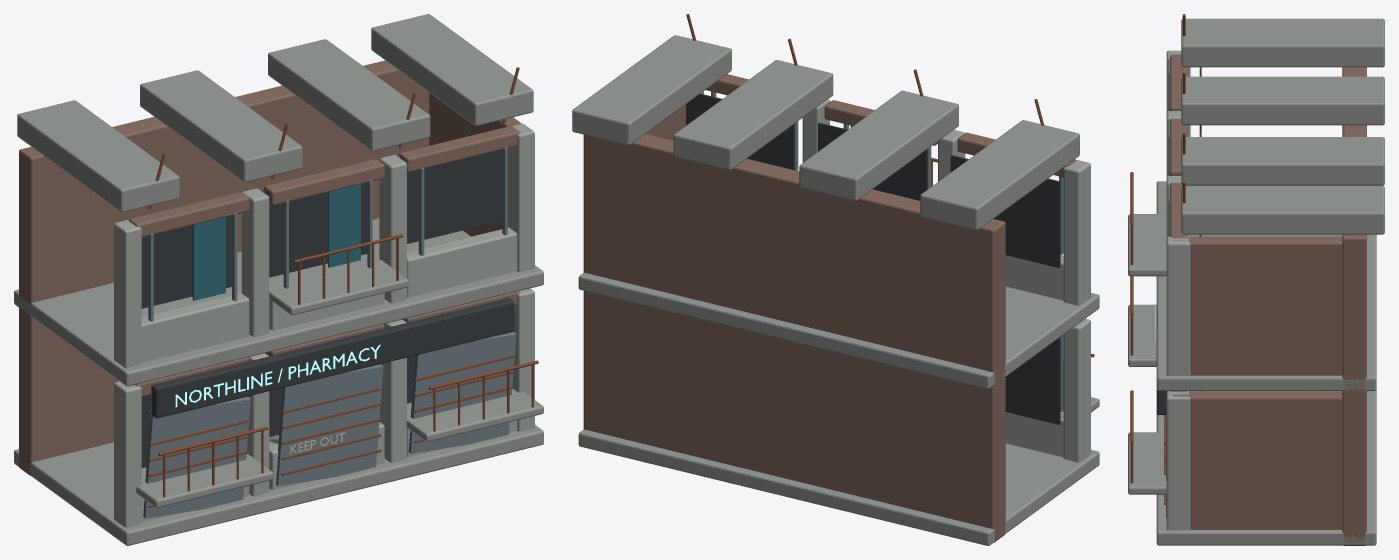
File: broken-shop.glb
3 views of the same model, side by side, from view 1: azimuth 30°, elevation 25°; view 2: azimuth 150°, elevation 25°; view 3: azimuth 270°, elevation 25° (orthographic). The views are drawn at different scales.
Parts seen in each view (by area): view 1: broken-shop.001; view 2: broken-shop.001; view 3: broken-shop.001.
Boxes of the visible parts, <box> form: broken-shop.001: <box>14,14,543,545</box>; broken-shop.001: <box>572,14,1099,545</box>; broken-shop.001: <box>1128,14,1384,545</box>.
Size of the model in its own units: 8.55 by 7.33 by 4.67.
